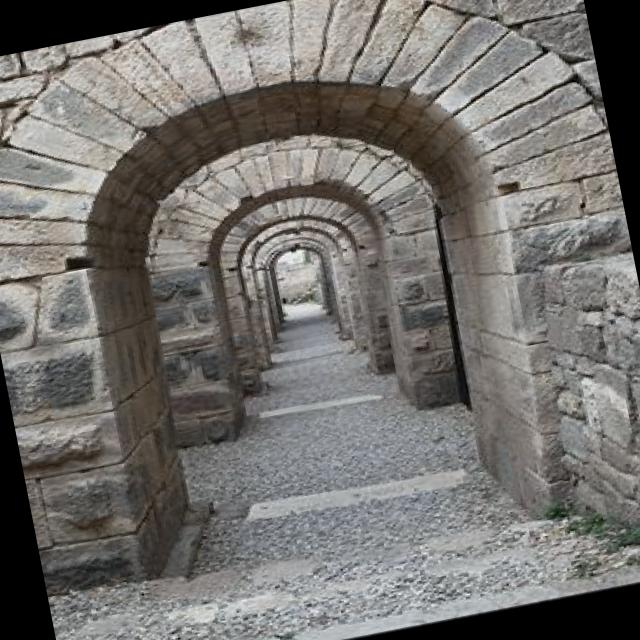floor -X: (48, 294, 640, 640)
sky light: (268, 248, 307, 265)
trees: (271, 249, 320, 301)
wall clock: (142, 135, 463, 447), (217, 196, 393, 395), (235, 218, 366, 366)
